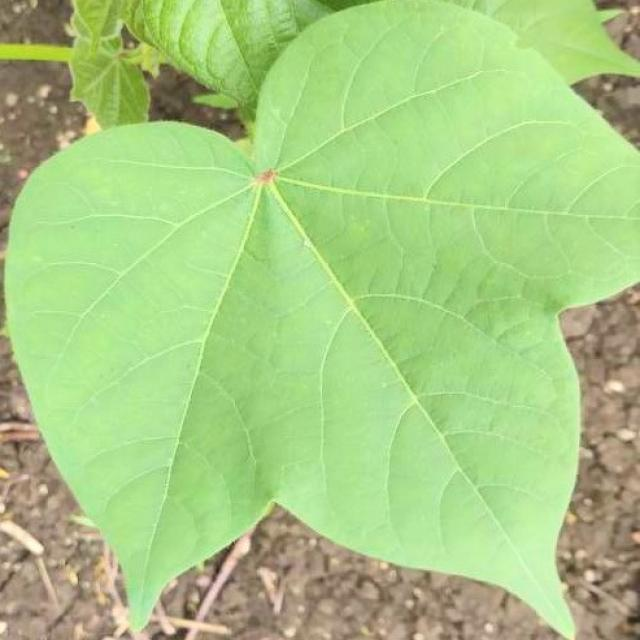Healthy Leaf: (9, 1, 640, 640)
